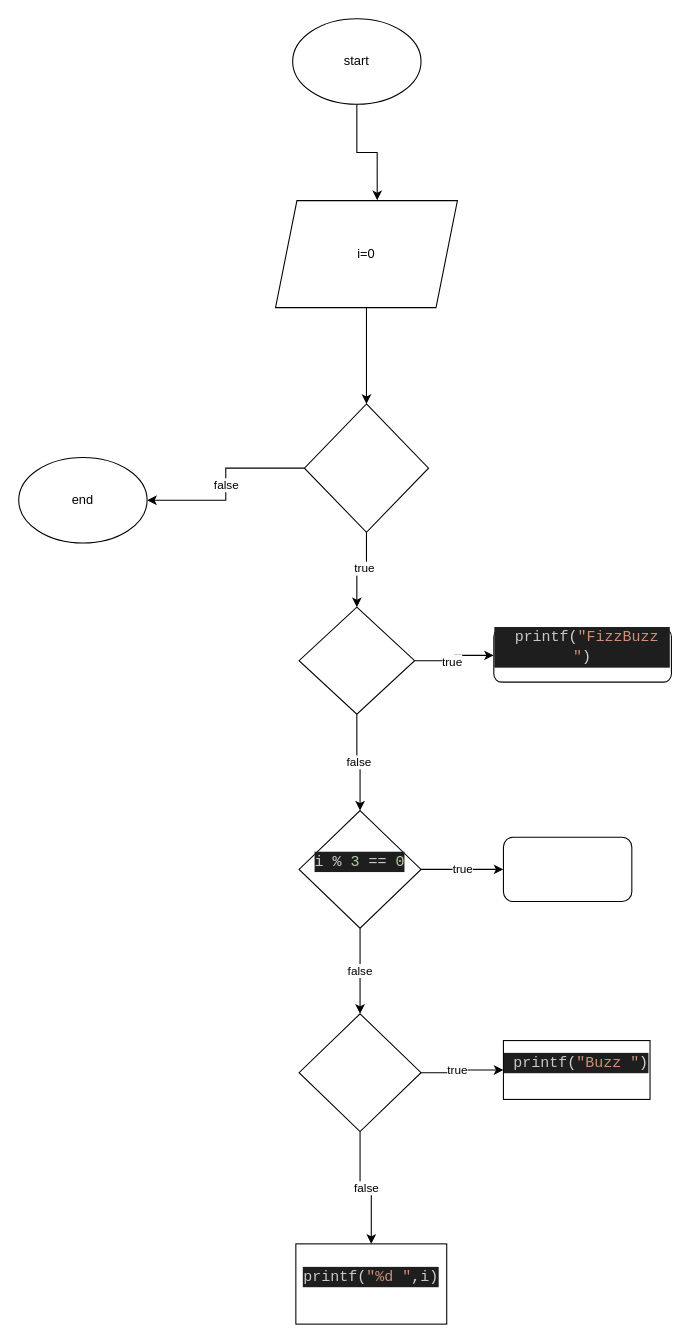
Image size: 690x1343. Some labels were removed from this diagram. Each missing label, with the centre of its shape:
i % 3 == 0 && i % 5 == 0: point (356, 660)
i % 5 == 0: point (359, 1072)
i<100: point (366, 467)
printf ( "Fizz " ): point (567, 868)
